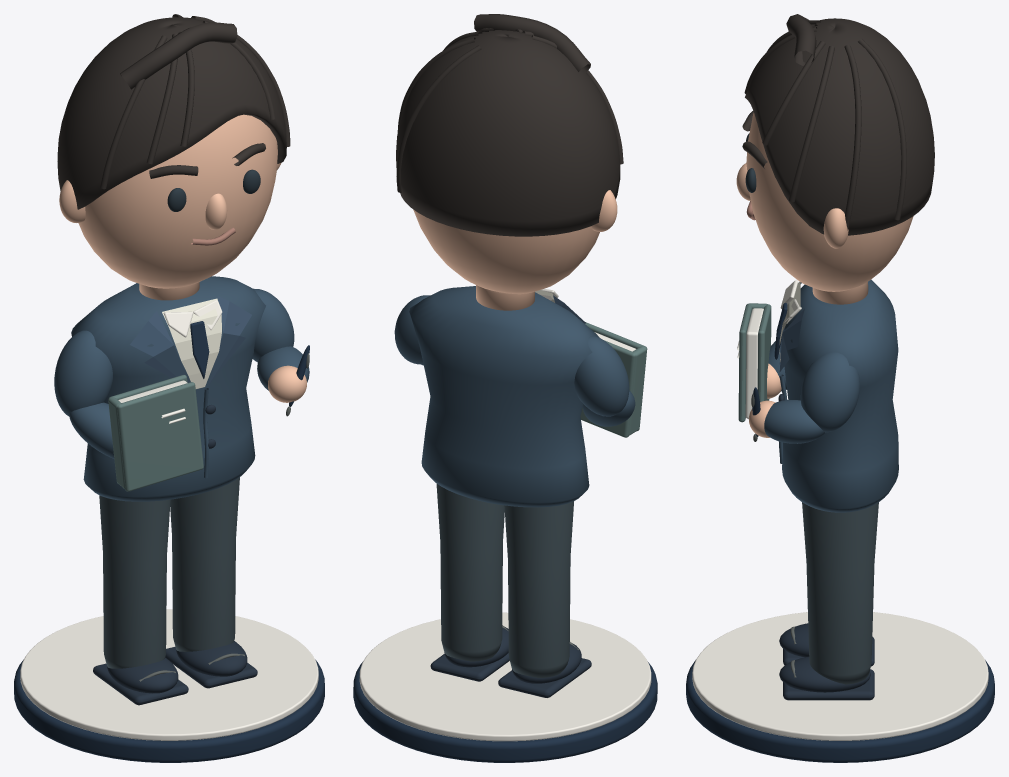
Rendered from teacher-male.glb.
3 renders of one model, left to right at view 1: azimuth 30°, elevation 25°; view 2: azimuth 150°, elevation 25°; view 3: azimuth 270°, elevation 25°, orthographic. The views are drawn at different scales.
Visible parts, largest first — view 1: teacher-male-root-web; view 2: teacher-male-root-web; view 3: teacher-male-root-web.
Boxes of the visible parts, <box> form: teacher-male-root-web: <box>14,14,324,762</box>; teacher-male-root-web: <box>353,14,657,762</box>; teacher-male-root-web: <box>686,14,994,762</box>.
Bounding box in the file's own units: 1.28 × 3.1 × 1.28.
